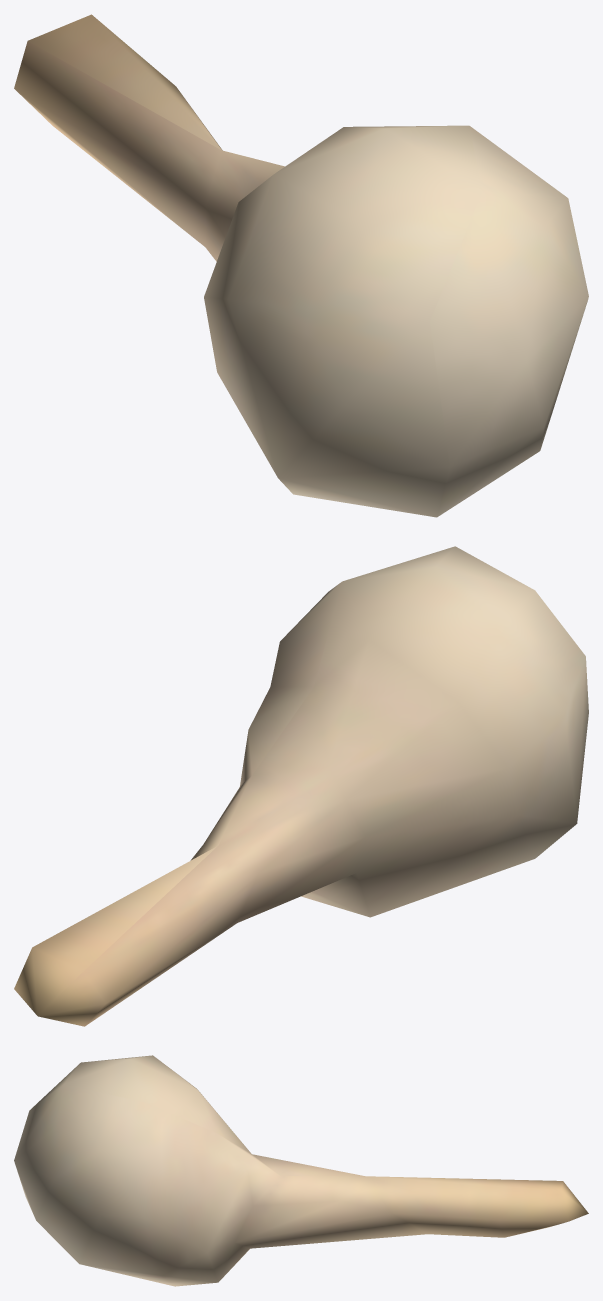
File: Vd_Candle_Drip_B.obj
3 renders of one model, top to bottom at view 1: azimuth 30°, elevation 25°; view 2: azimuth 150°, elevation 25°; view 3: azimuth 270°, elevation 25°, orthographic. The views are drawn at different scales.
Parts seen in each view (by area): view 1: DN_Vd_Candle_Drip_B; view 2: DN_Vd_Candle_Drip_B; view 3: DN_Vd_Candle_Drip_B.
Part boxes in pixels (x1,y1,x2,y2): DN_Vd_Candle_Drip_B: [14, 14, 588, 517]; DN_Vd_Candle_Drip_B: [14, 546, 588, 1026]; DN_Vd_Candle_Drip_B: [14, 1055, 588, 1286].
Size of the model in its own units: 0.1405 by 0.1495 by 0.3668.
